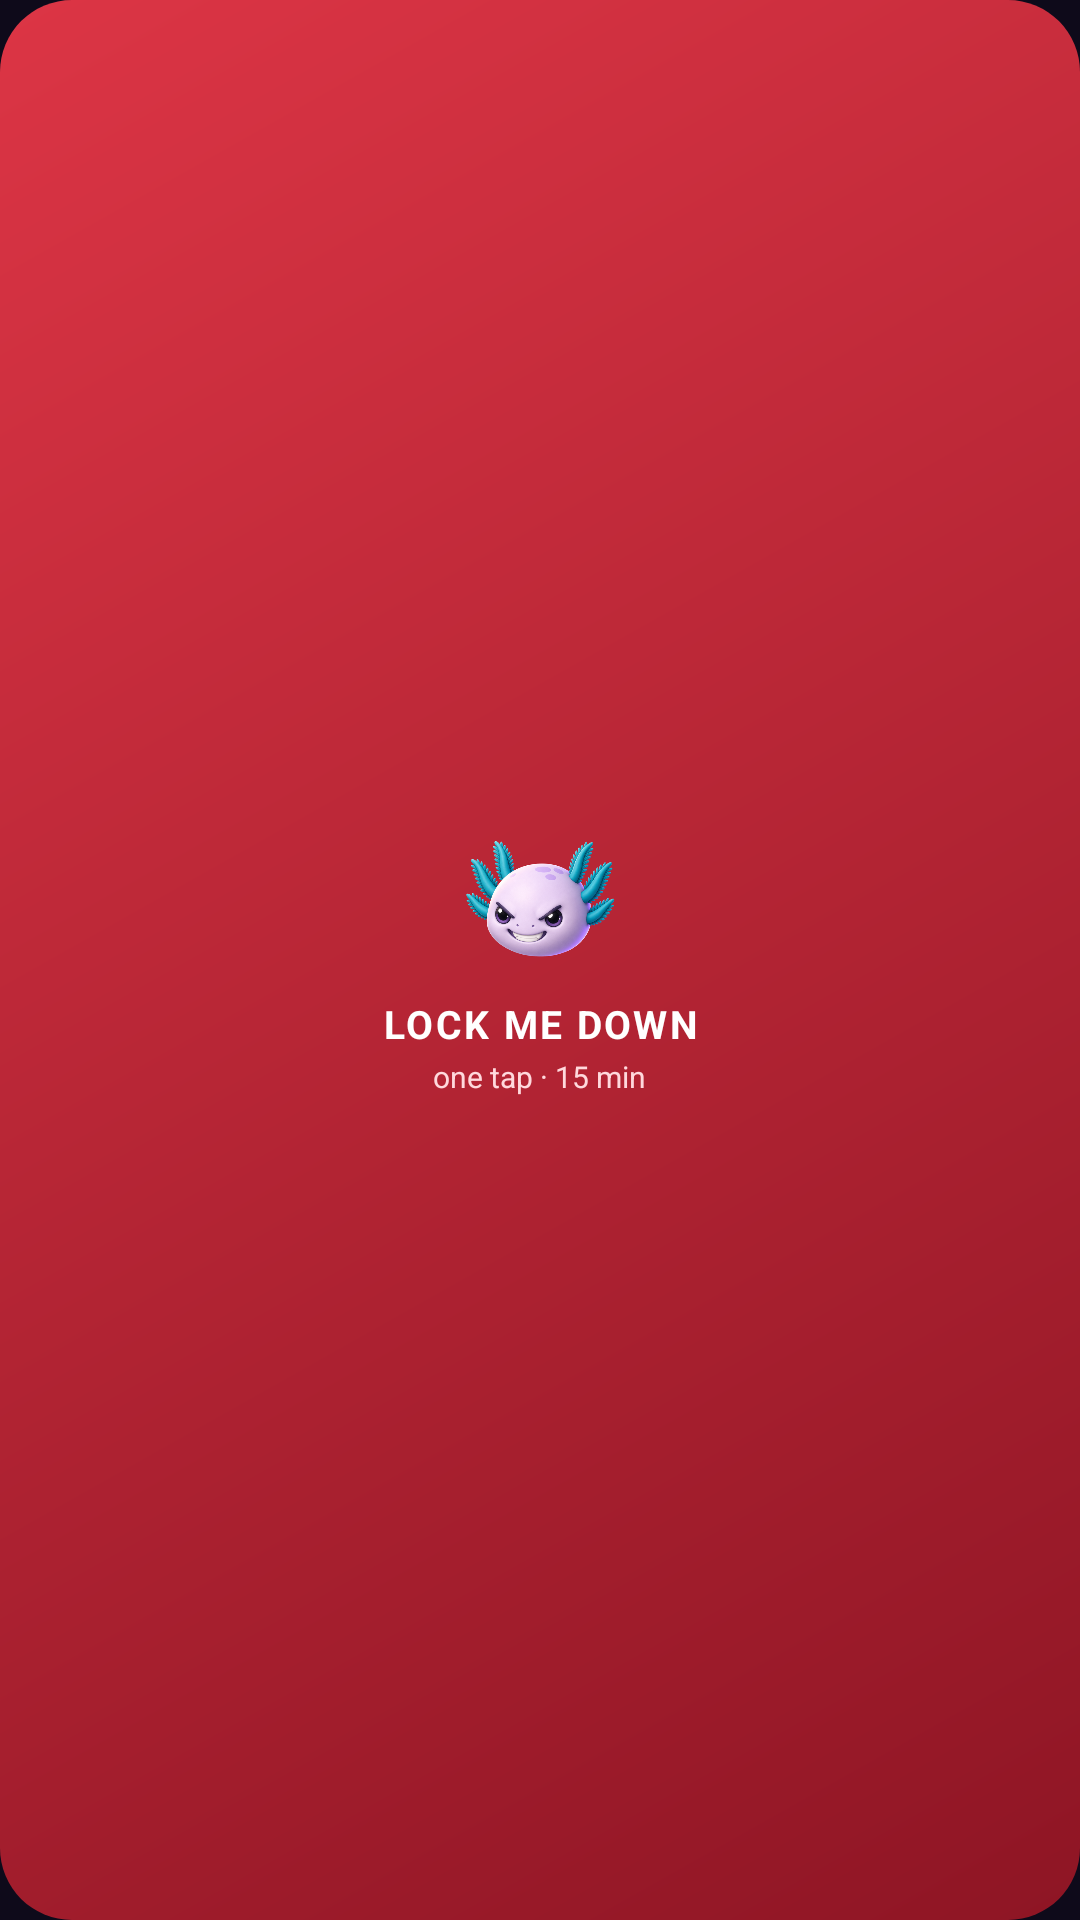

Icons on this 1080*1920 Android screen, each with the point to tap as (x,y):
Cal, game face on: (540,899)
